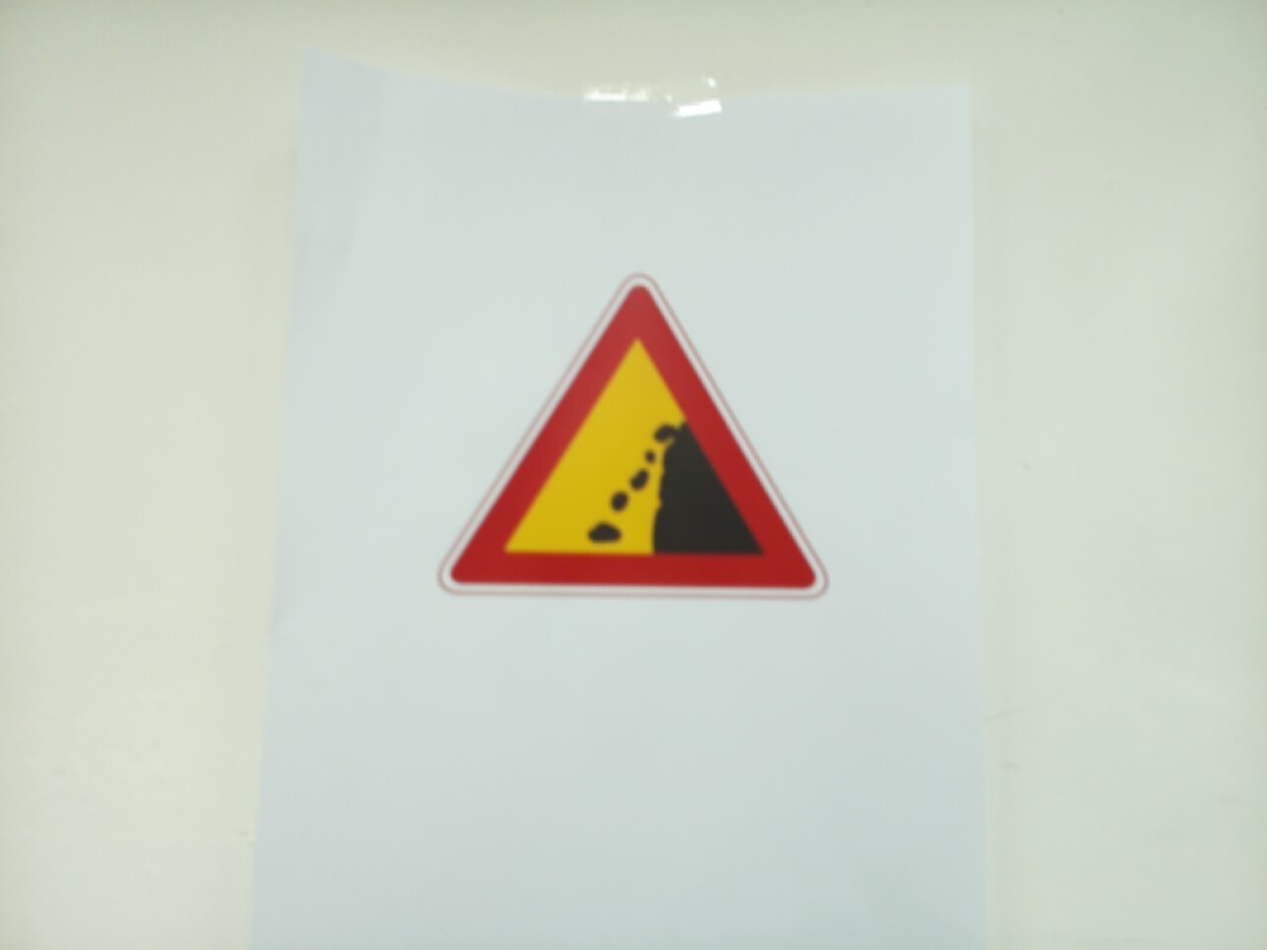falling_rocks: (439, 275, 827, 599)
